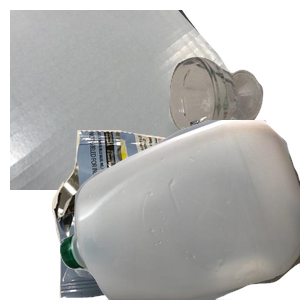cardboard: (10, 10, 250, 190)
glass: (166, 54, 300, 189)
plastic: (60, 120, 300, 300)
trash: (49, 130, 235, 300)
